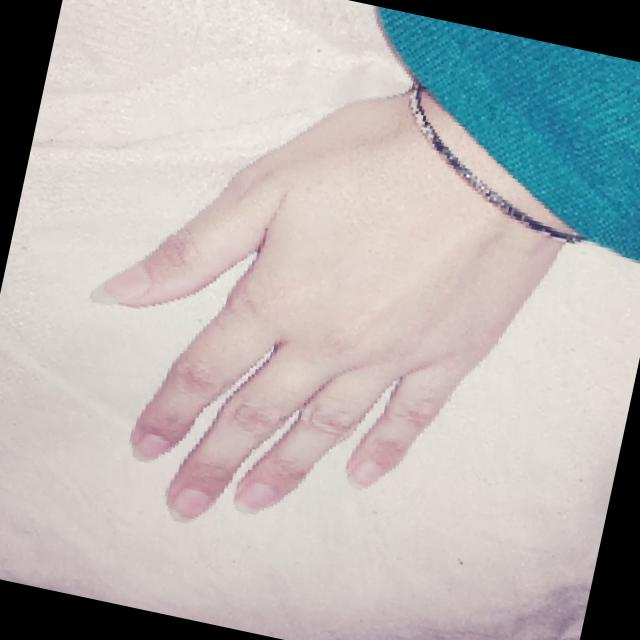Nail: (90, 259, 151, 303), (168, 487, 207, 521), (233, 481, 274, 513), (345, 459, 384, 488), (131, 434, 168, 459)
